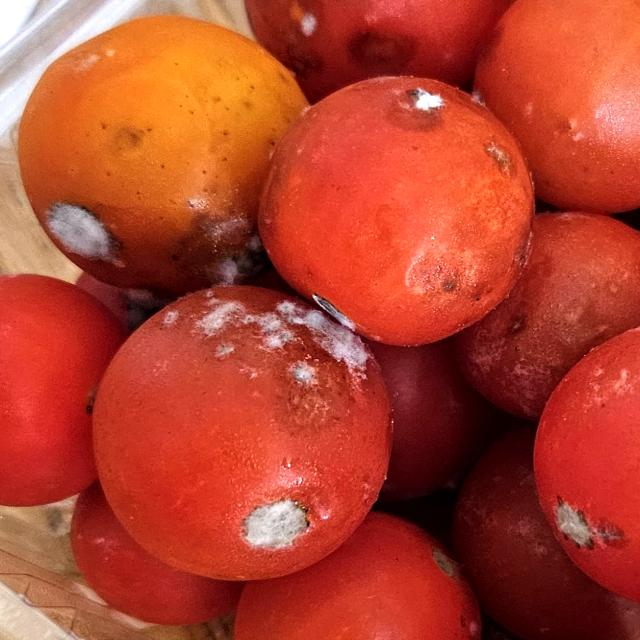rot_lvl1: (484, 137, 520, 182), (437, 271, 463, 300)
rot_lvl2: (303, 306, 375, 374), (45, 200, 116, 264), (244, 495, 314, 551), (197, 294, 251, 338), (554, 502, 600, 551), (259, 307, 295, 358), (281, 353, 335, 387), (406, 85, 447, 111)
